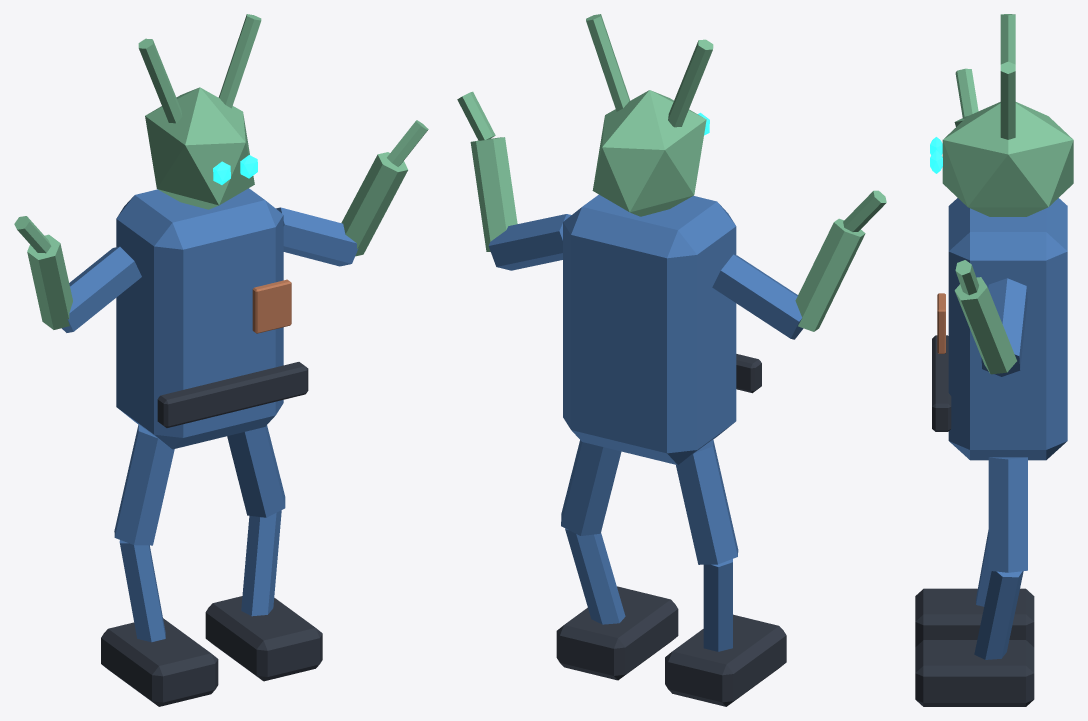
The model's file is npcs_013_seed78877.glb.
3 views of the same model, side by side, from view 1: azimuth 30°, elevation 25°; view 2: azimuth 150°, elevation 25°; view 3: azimuth 270°, elevation 25° (orthographic). The views are drawn at different scales.
Parts seen in each view (by area): view 1: npcs_013_seed78877; view 2: npcs_013_seed78877; view 3: npcs_013_seed78877.
Boxes of the visible parts, box(x1,y1,x2,y2) form: npcs_013_seed78877: box(14, 14, 428, 706); npcs_013_seed78877: box(457, 14, 886, 706); npcs_013_seed78877: box(915, 14, 1073, 706).
Bounding box in the file's own units: 1.29 × 1.88 × 0.4265.
